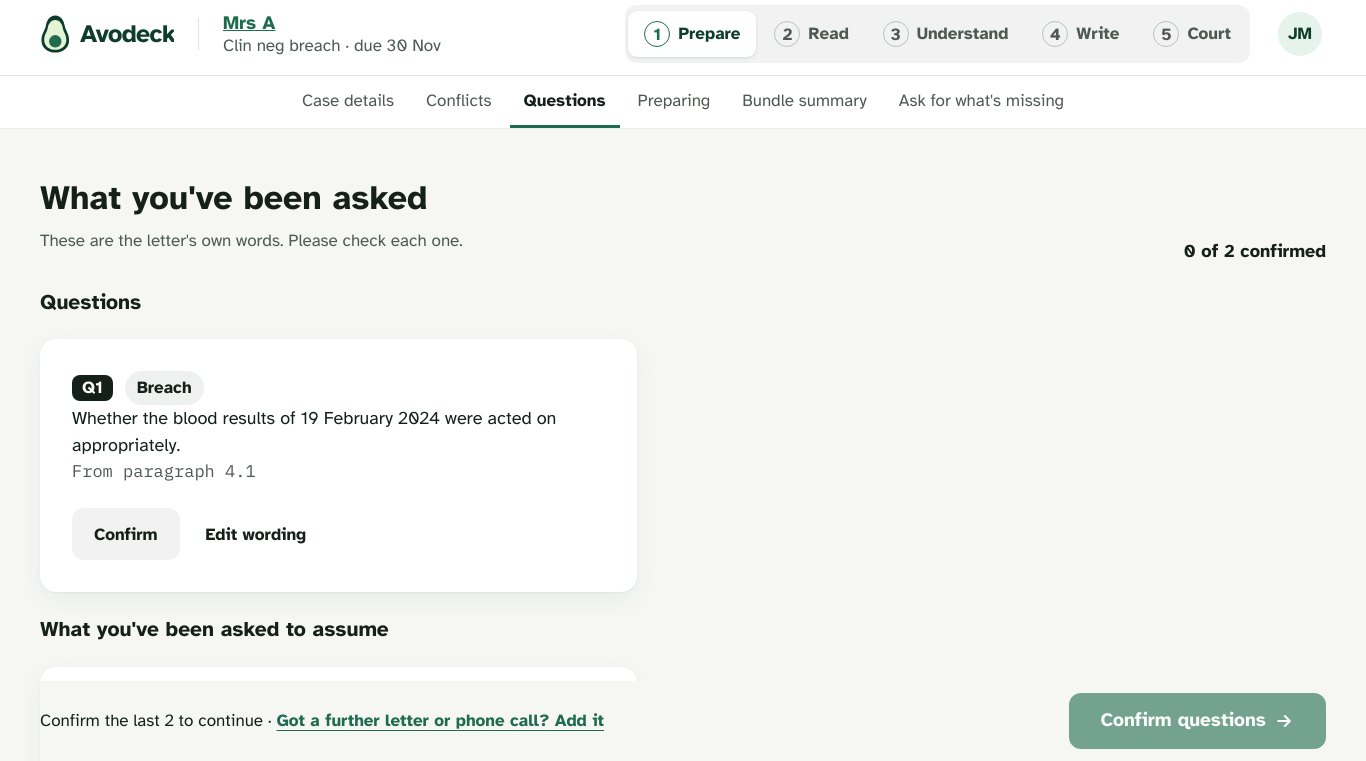
Test: flagging a question as outside your field disables the choices while it saves
Click the button "Edit wording" at (256,534), box [192,508,320,560]
(page scrolled)
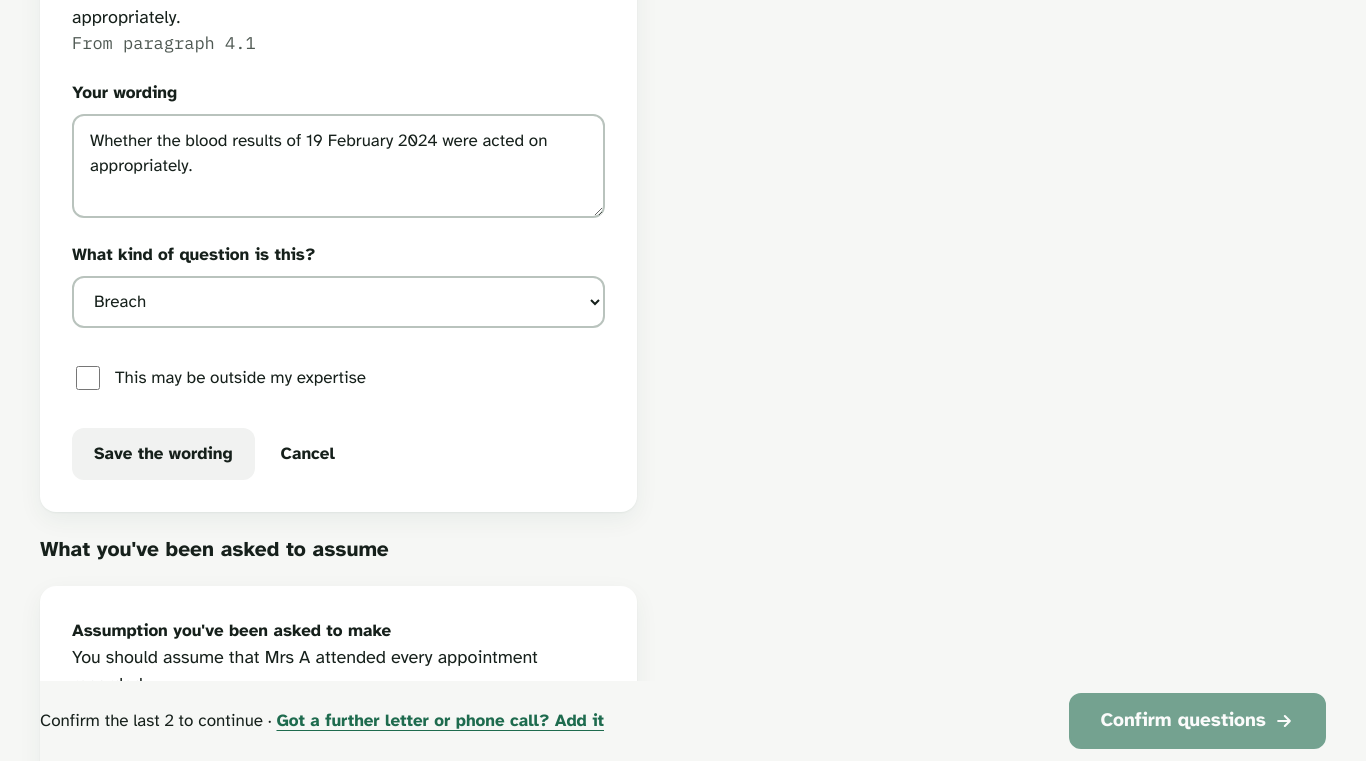
Click the checkbox labelled "This may be outside my expertise" at (88,378), box [76,366,100,390]
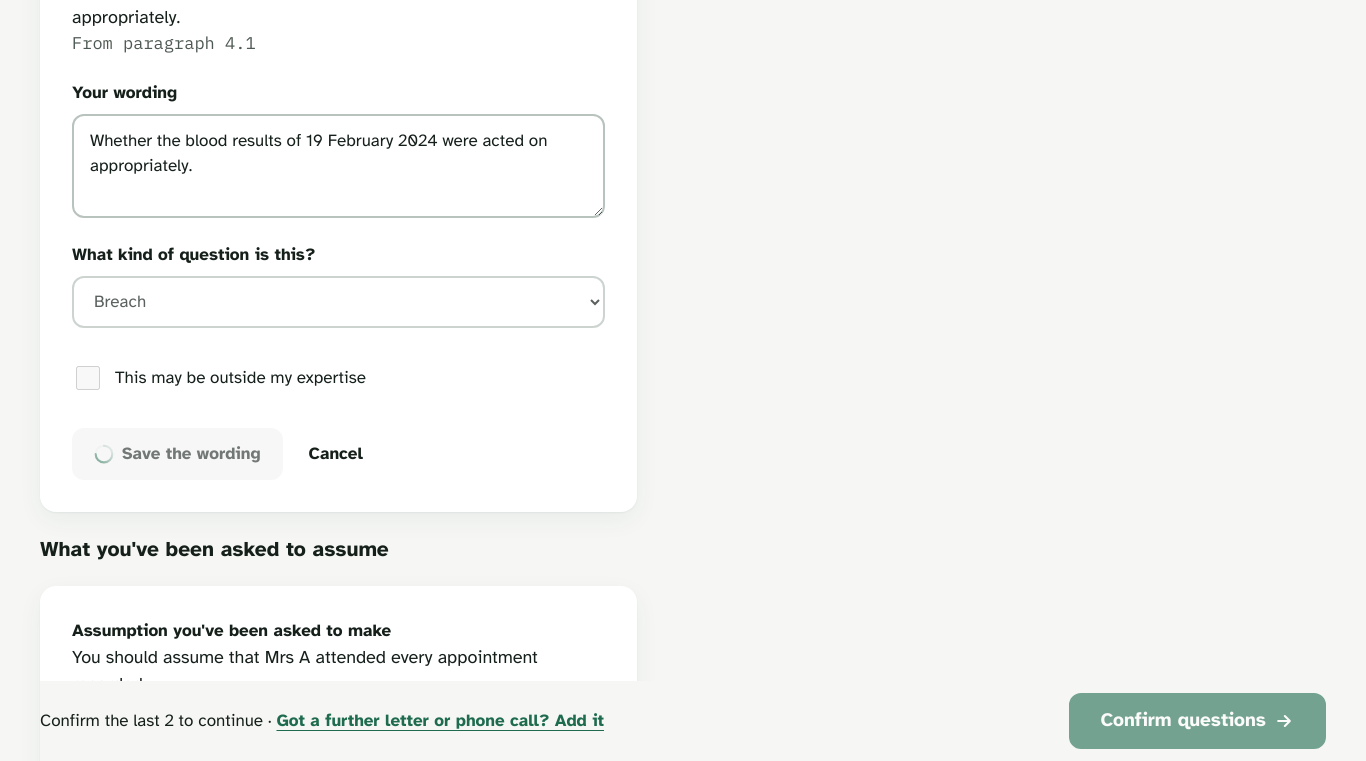
Result: the checkbox labelled "This may be outside my expertise" is disabled at [76,366,100,390]
